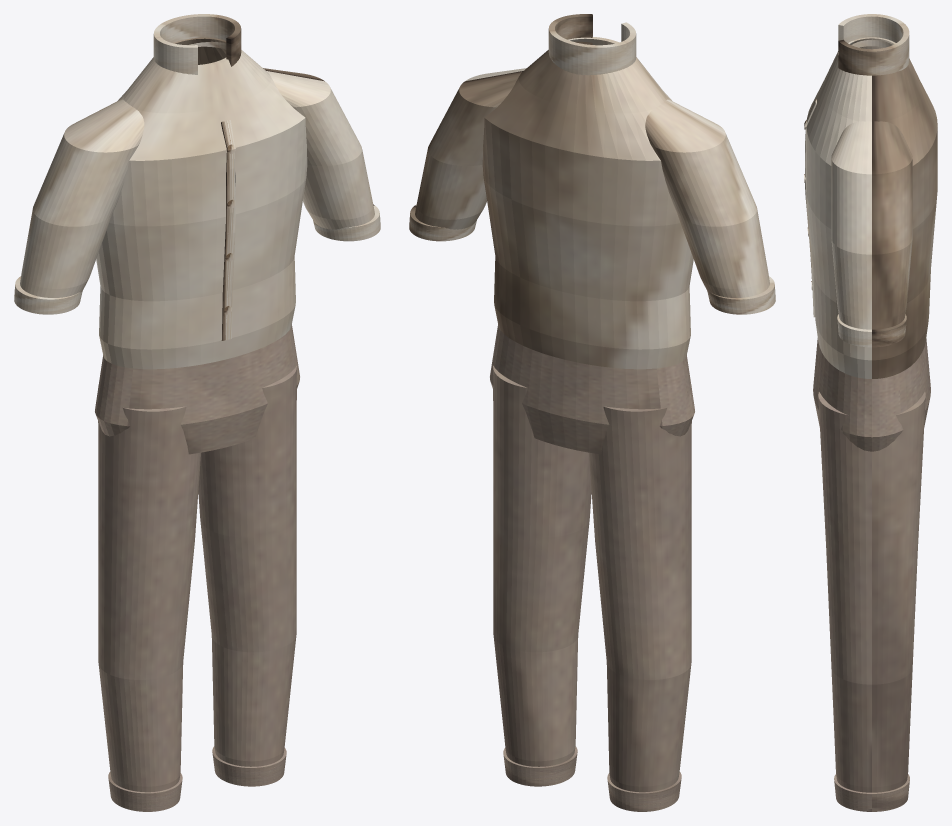
3 renders of one model, left to right at view 1: azimuth 30°, elevation 25°; view 2: azimuth 150°, elevation 25°; view 3: azimuth 270°, elevation 25°, orthographic.
Parts seen in each view (by area): view 1: shirt_body, left_trouser_leg, right_trouser_leg, left_shirt_sleeve, trouser_hips, right_shirt_sleeve, shirt_collar, shirt_placket, right_trouser_cuff, left_trouser_cuff, left_shirt_cuff, right_shirt_cuff; view 2: shirt_body, left_trouser_leg, right_trouser_leg, left_shirt_sleeve, trouser_hips, right_shirt_sleeve, shirt_collar, right_trouser_cuff, left_trouser_cuff, left_shirt_cuff, right_shirt_cuff; view 3: right_trouser_leg, shirt_body, right_shirt_sleeve, trouser_hips, shirt_collar, right_trouser_cuff, right_shirt_cuff, shirt_placket.
Part boxes in pixels (left/top/right/bottom): shirt_body: left=96, top=37, right=307, bottom=369; left_trouser_leg: left=98, top=385, right=200, bottom=792; right_trouser_leg: left=198, top=365, right=296, bottom=766; left_shirt_sleeve: left=20, top=99, right=144, bottom=297; trouser_hips: left=95, top=324, right=299, bottom=454; right_shirt_sleeve: left=263, top=68, right=374, bottom=229; shirt_collar: left=153, top=14, right=241, bottom=74; shirt_placket: left=221, top=120, right=235, bottom=340; right_trouser_cuff: left=212, top=746, right=286, bottom=786; left_trouser_cuff: left=108, top=772, right=182, bottom=811; left_shirt_cuff: left=14, top=276, right=82, bottom=314; right_shirt_cuff: left=313, top=204, right=380, bottom=241; shirt_body: left=482, top=37, right=693, bottom=369; left_trouser_leg: left=589, top=385, right=691, bottom=792; right_trouser_leg: left=493, top=365, right=591, bottom=766; left_shirt_sleeve: left=645, top=99, right=769, bottom=297; trouser_hips: left=490, top=324, right=694, bottom=454; right_shirt_sleeve: left=415, top=68, right=526, bottom=229; shirt_collar: left=548, top=14, right=636, bottom=75; right_trouser_cuff: left=503, top=746, right=577, bottom=786; left_trouser_cuff: left=607, top=772, right=681, bottom=811; left_shirt_cuff: left=707, top=276, right=775, bottom=314; right_shirt_cuff: left=409, top=204, right=476, bottom=241; right_trouser_leg: left=818, top=392, right=925, bottom=792; shirt_body: left=806, top=37, right=937, bottom=378; right_shirt_sleeve: left=831, top=121, right=912, bottom=329; trouser_hips: left=813, top=338, right=930, bottom=451; shirt_collar: left=838, top=14, right=909, bottom=75; right_trouser_cuff: left=834, top=774, right=909, bottom=811; right_shirt_cuff: left=837, top=314, right=906, bottom=347; shirt_placket: left=805, top=99, right=816, bottom=317.
Size of the model in its own units: 54.6 by 110 by 17.96.
3 materials, 3 textured.
